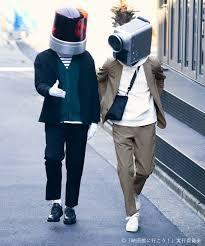no more kid: (108, 16, 155, 69)
